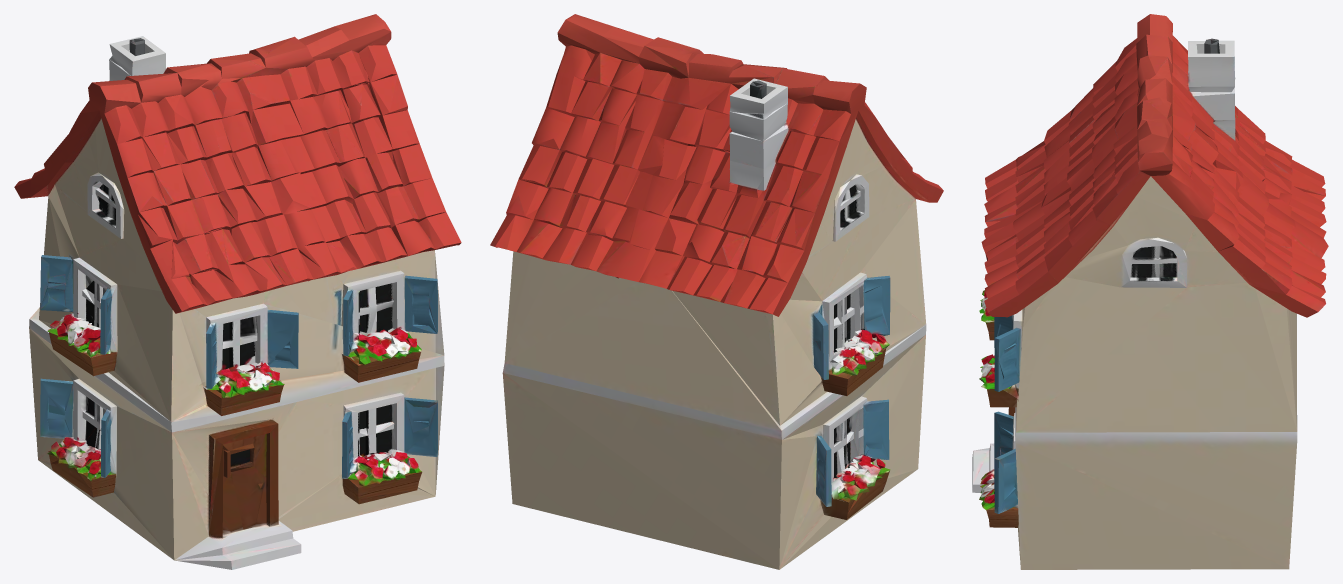
Rendered from house_family.glb.
The picture shows the model from 3 angles, left to right: view 1: azimuth 30°, elevation 25°; view 2: azimuth 150°, elevation 25°; view 3: azimuth 270°, elevation 25°; orthographic projection. The views are drawn at different scales.
Bounding box in the file's own units: 6 × 8 × 6.
1 material, 1 textured.
